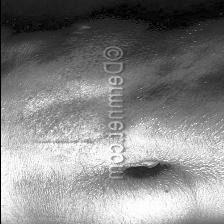Unclassified: (36, 54, 98, 224), (132, 96, 224, 204)
